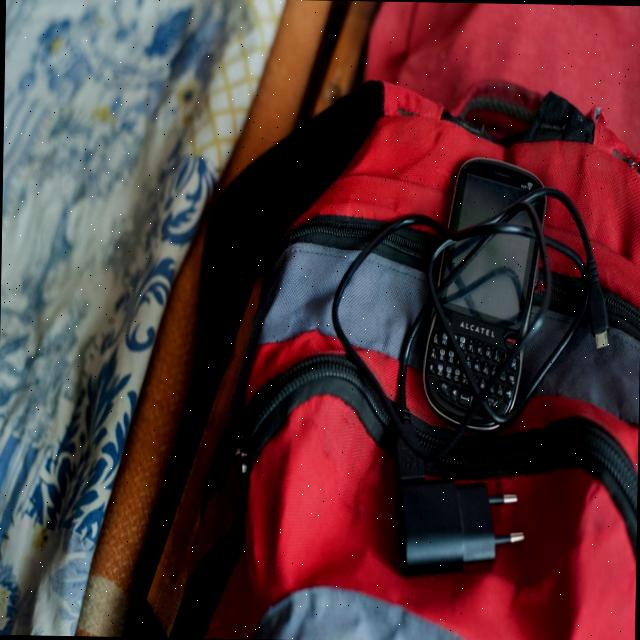Phone: (418, 154, 560, 436)
